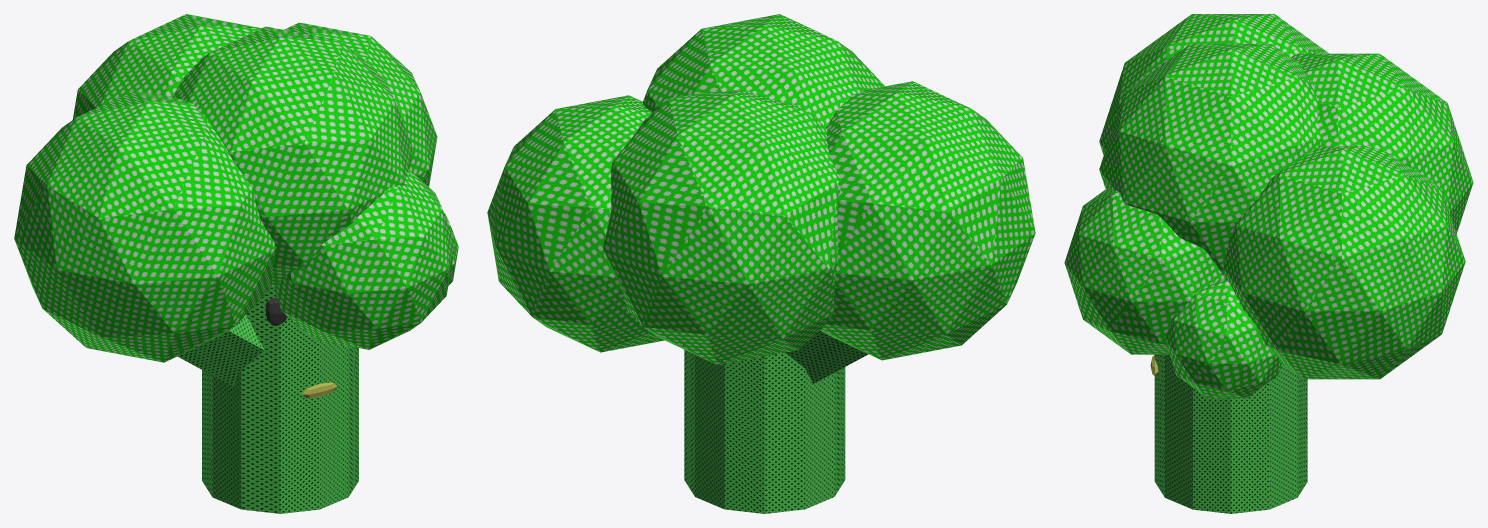
The model's file is Broccoli.fbx.
The picture shows the model from 3 angles, left to right: view 1: azimuth 30°, elevation 25°; view 2: azimuth 150°, elevation 25°; view 3: azimuth 270°, elevation 25°; orthographic projection. The views are drawn at different scales.
Visible parts, largest first — view 1: Hojas, Tallo; view 2: Hojas, Tallo; view 3: Hojas, Tallo.
Part boxes in pixels (x1,y1,x2,y2): Hojas: [14, 14, 458, 362]; Tallo: [177, 286, 358, 513]; Hojas: [487, 14, 1035, 365]; Tallo: [684, 331, 868, 513]; Hojas: [1064, 14, 1473, 398]; Tallo: [1154, 354, 1307, 513].
Size of the model in its own units: 279 by 269 by 231.
Materials: 4 (4 with a texture image).
